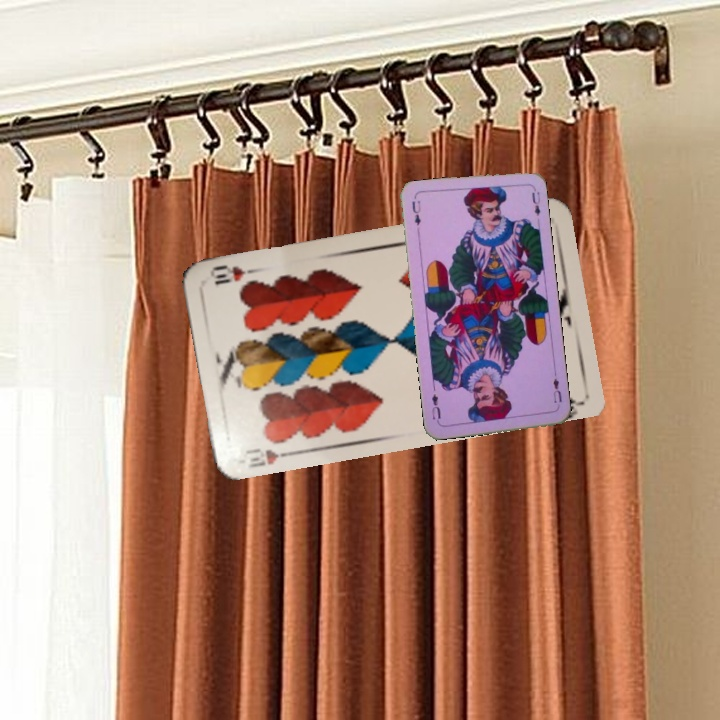EU: (549, 370, 564, 410), (408, 196, 423, 236)
H10: (242, 444, 295, 471)
